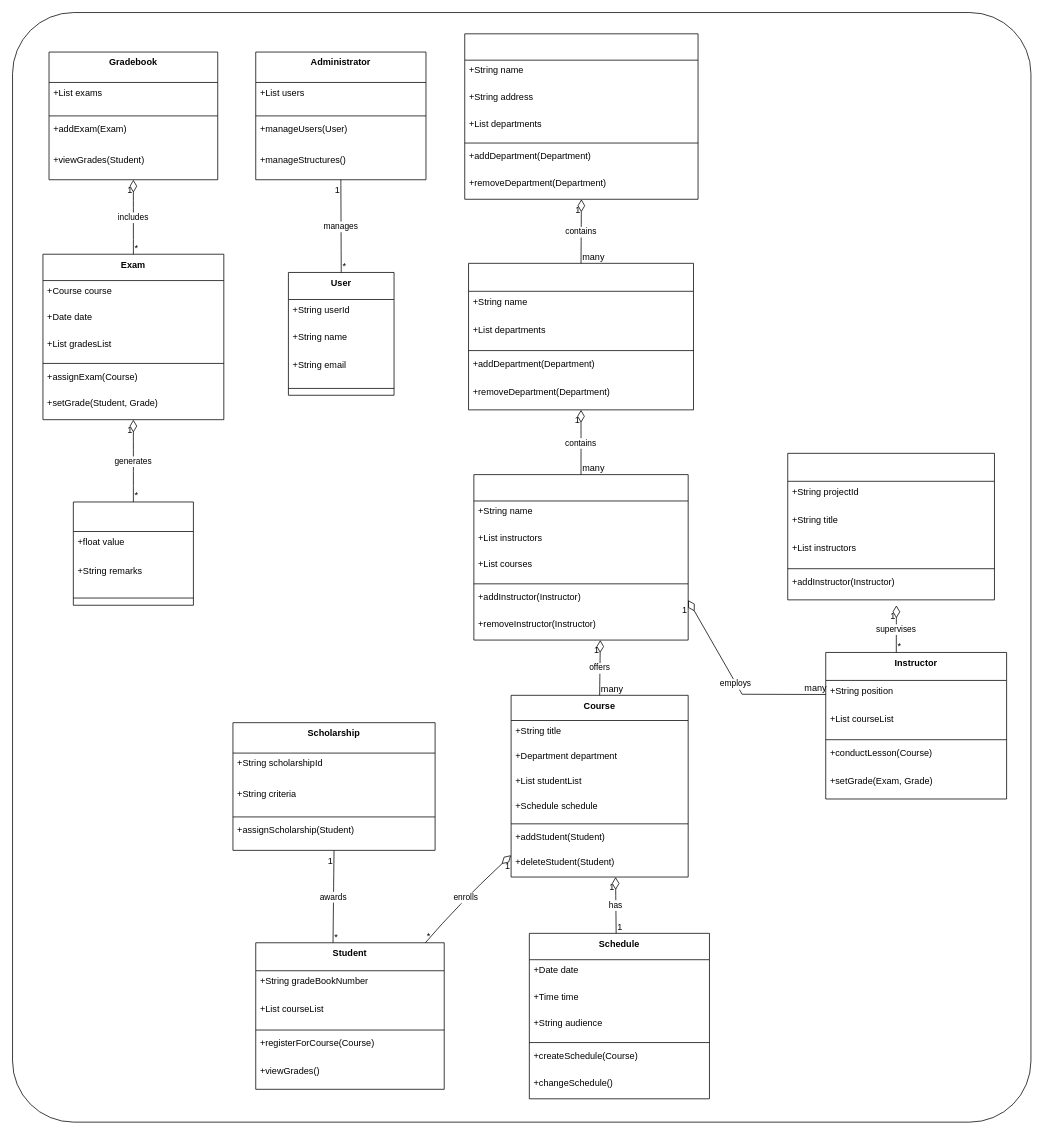
Some shapes in this 1043 by 1135 pixel diagram are drawn without their labels. Here are the shapes that lost their labels. From the top down, the box of each, then its label:
(464, 33, 698, 199): University
(468, 263, 694, 410): Faculty
(787, 453, 994, 600): ResearchProject
(73, 501, 193, 605): Grade
(473, 474, 688, 640): Department
